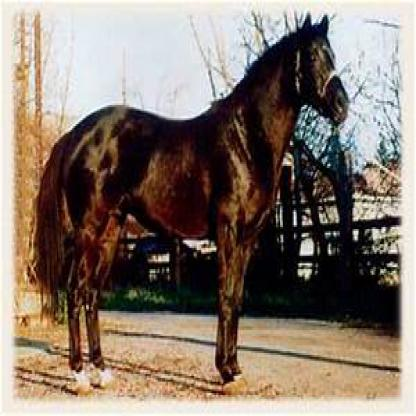horse: (38, 13, 350, 397)
